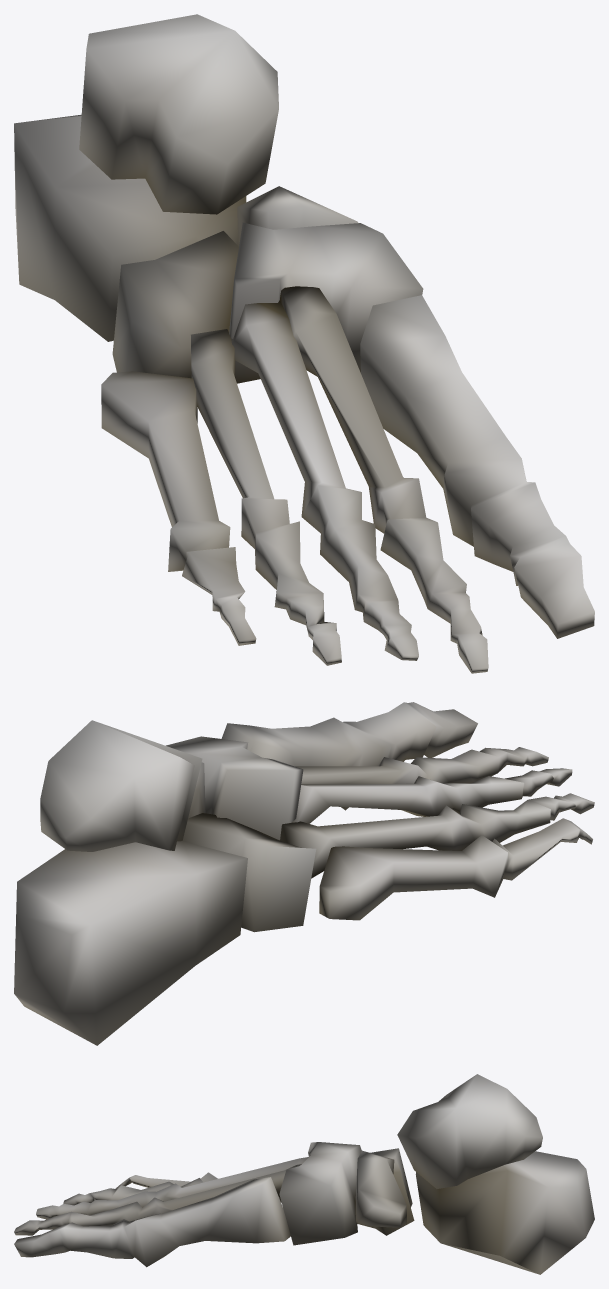
The model's file is animals-animalparts-skeleton_v11.glb.
3 views of the same model, one above another, from view 1: azimuth 30°, elevation 25°; view 2: azimuth 150°, elevation 25°; view 3: azimuth 270°, elevation 25° (orthographic). The views are drawn at different scales.
Parts seen in each view (by area): view 1: Skeleton_v11; view 2: Skeleton_v11; view 3: Skeleton_v11.
Boxes of the visible parts, x1=… form: Skeleton_v11: x1=14, y1=14, x2=594, y2=673; Skeleton_v11: x1=14, y1=702, x2=594, y2=1045; Skeleton_v11: x1=14, y1=1074, x2=594, y2=1274.
Size of the model in its own units: 0.1183 by 0.0964 by 0.2987.
